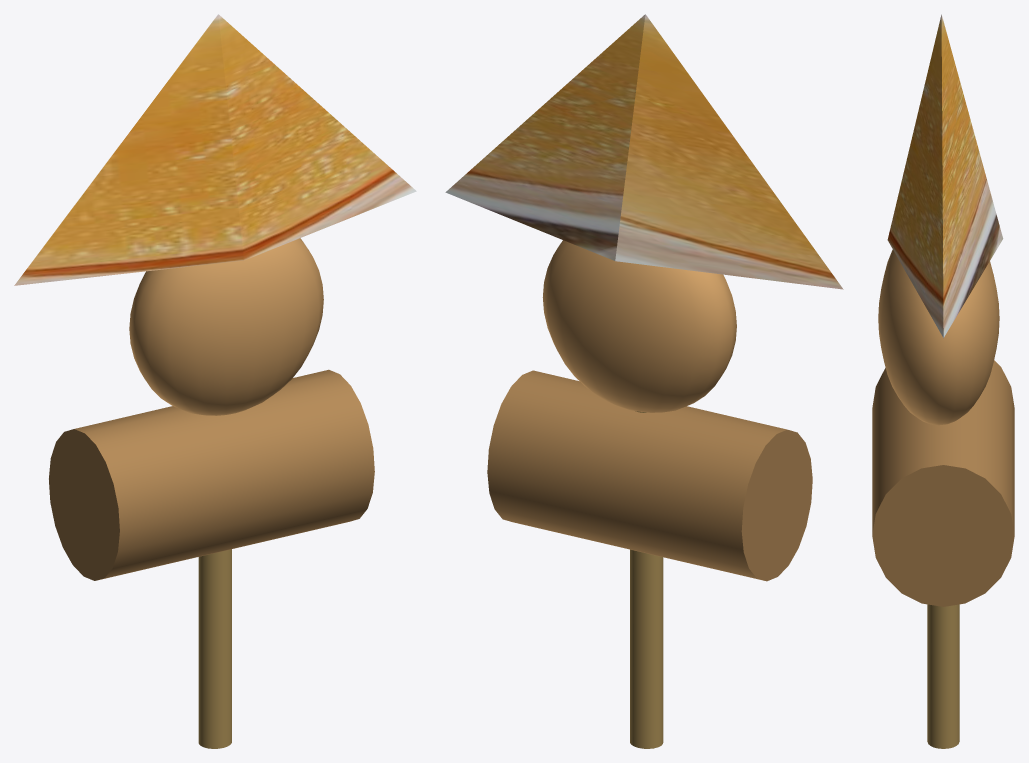
File: oden.fbx
The picture shows the model from 3 angles, left to right: view 1: azimuth 30°, elevation 25°; view 2: azimuth 150°, elevation 25°; view 3: azimuth 270°, elevation 25°; orthographic projection.
Visible parts, largest first — view 1: pPyramid1, pCylinder3, pSphere1, pCylinder2; view 2: pPyramid1, pCylinder3, pSphere1, pCylinder2; view 3: pCylinder3, pPyramid1, pSphere1, pCylinder2.
Part boxes in pixels (<box>): pPyramid1: <box>14,14,416,285</box>; pCylinder3: <box>49,369,374,580</box>; pSphere1: <box>129,238,323,415</box>; pCylinder2: <box>198,549,231,748</box>; pPyramid1: <box>445,14,843,289</box>; pCylinder3: <box>487,370,812,581</box>; pSphere1: <box>542,240,736,412</box>; pCylinder2: <box>630,411,663,748</box>; pCylinder3: <box>872,360,1014,606</box>; pPyramid1: <box>887,14,1003,337</box>; pSphere1: <box>878,249,999,425</box>; pCylinder2: <box>927,604,959,748</box>.
Size of the model in its own units: 2.6 by 4.51 by 0.7984.
